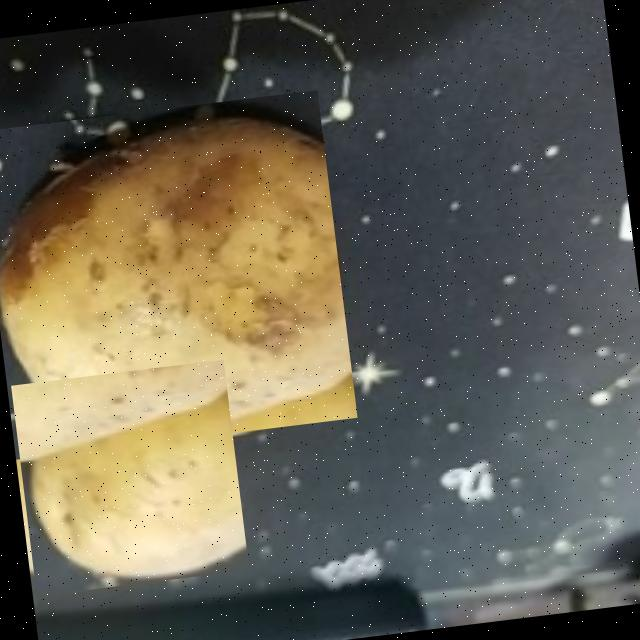Damaged potato: (0, 88, 356, 458)
Potato: (9, 358, 248, 594)
